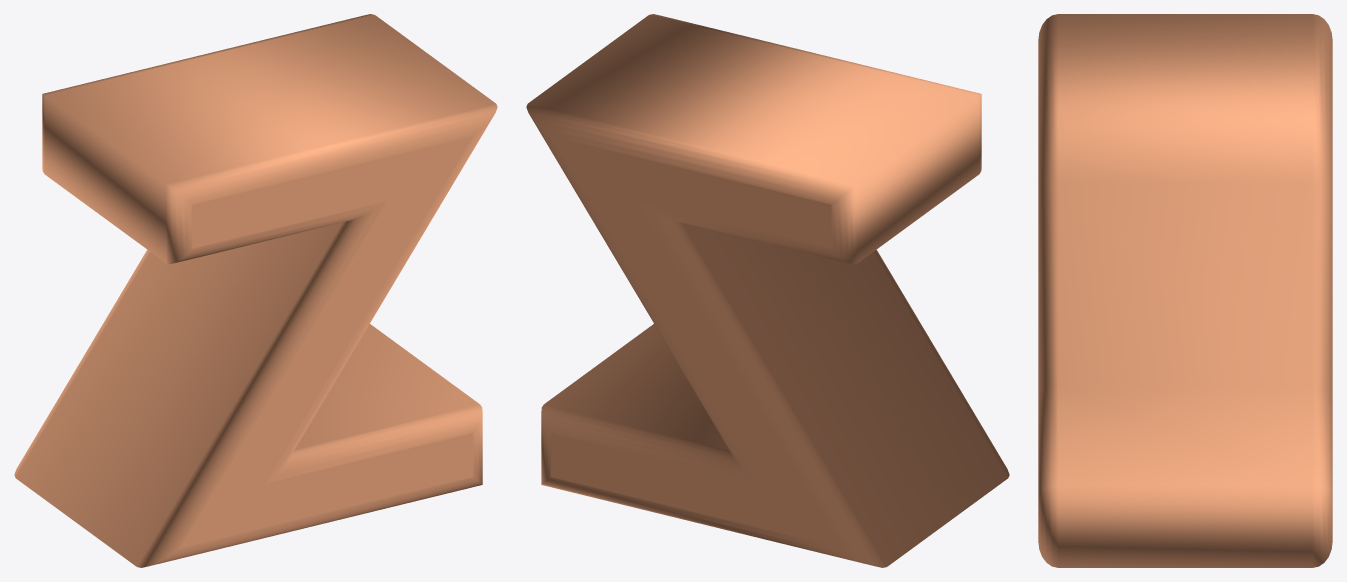
The model's file is letter_Z.glb.
3 renders of one model, left to right at view 1: azimuth 30°, elevation 25°; view 2: azimuth 150°, elevation 25°; view 3: azimuth 270°, elevation 25°, orthographic. The views are drawn at different scales.
Parts seen in each view (by area): view 1: Text; view 2: Text; view 3: Text.
Part boxes in pixels (box(x1,y1,x2,y2)): Text: box(14, 14, 497, 567); Text: box(526, 14, 1009, 567); Text: box(1038, 14, 1332, 567).
Size of the model in its own units: 0.7528 by 0.752 by 0.51.
